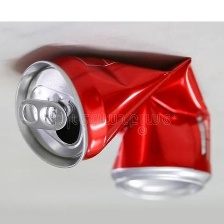can: (13, 44, 220, 209)
